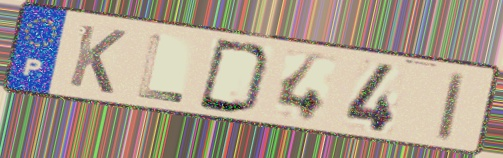4: (343, 59, 400, 135), (274, 51, 330, 124)
D: (195, 36, 275, 116)
I: (434, 70, 469, 145)
K: (64, 21, 130, 97)
L: (135, 31, 187, 105)
